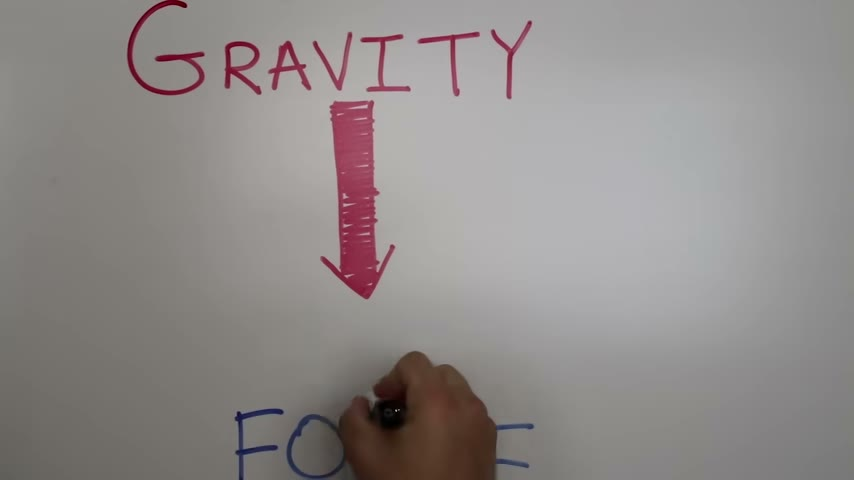barbell_plate_side: (120, 0, 199, 128)
